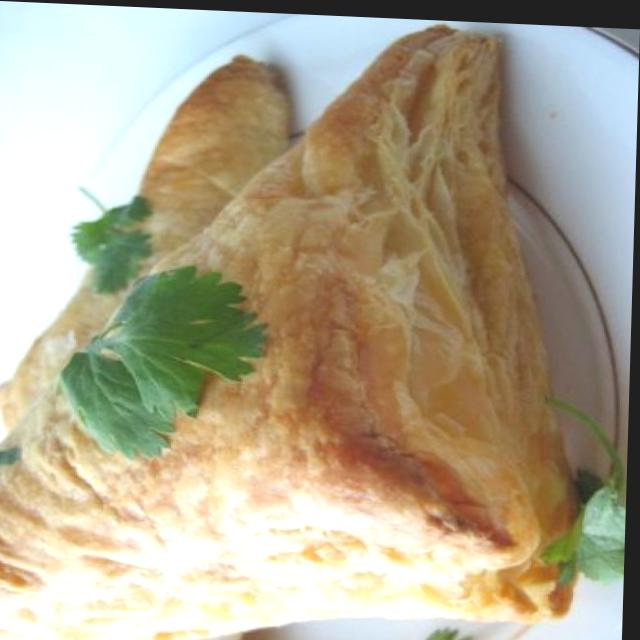炸货点心: (0, 20, 640, 640)
